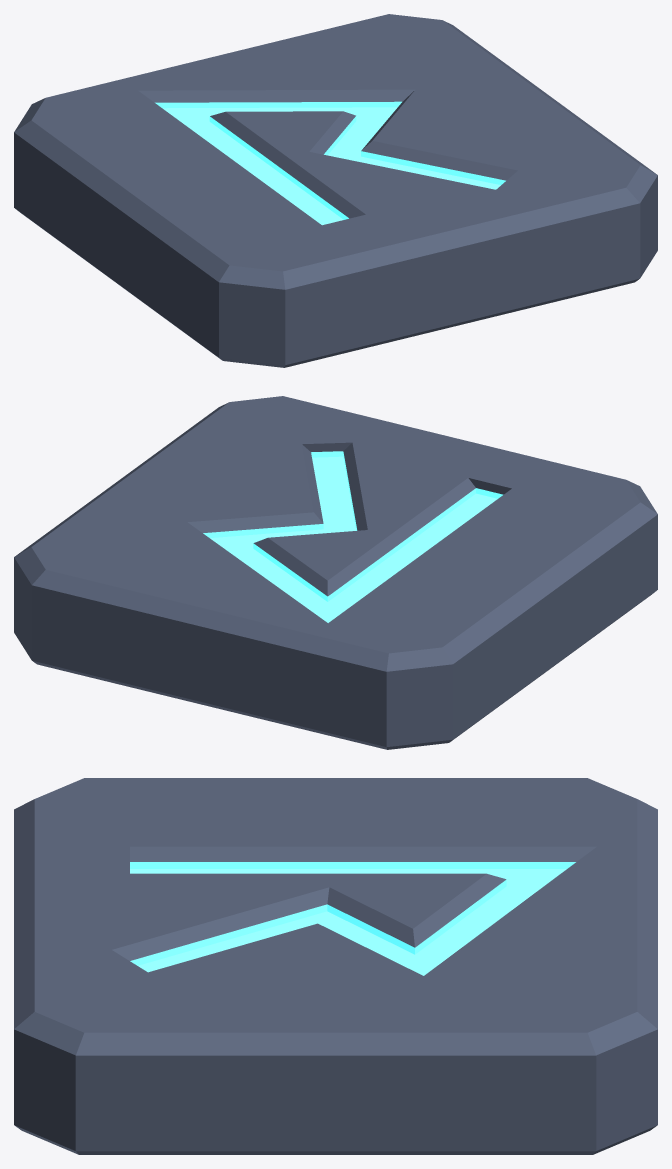
Rendered from rune-tile-769d8e.glb.
3 renders of one model, top to bottom at view 1: azimuth 30°, elevation 25°; view 2: azimuth 150°, elevation 25°; view 3: azimuth 270°, elevation 25°, orthographic. The views are drawn at different scales.
Visible parts, largest first — view 1: slate-body, rune-glow; view 2: slate-body, rune-glow; view 3: slate-body, rune-glow.
Part boxes in pixels (x1,y1,x2,y2): slate-body: (14,14,657,367); rune-glow: (155,101,505,225); slate-body: (14,396,657,749); rune-glow: (203,451,503,622); slate-body: (14,778,657,1154); rune-glow: (130,862,575,975).
Size of the model in its own units: 0.25 by 0.05 by 0.25.
